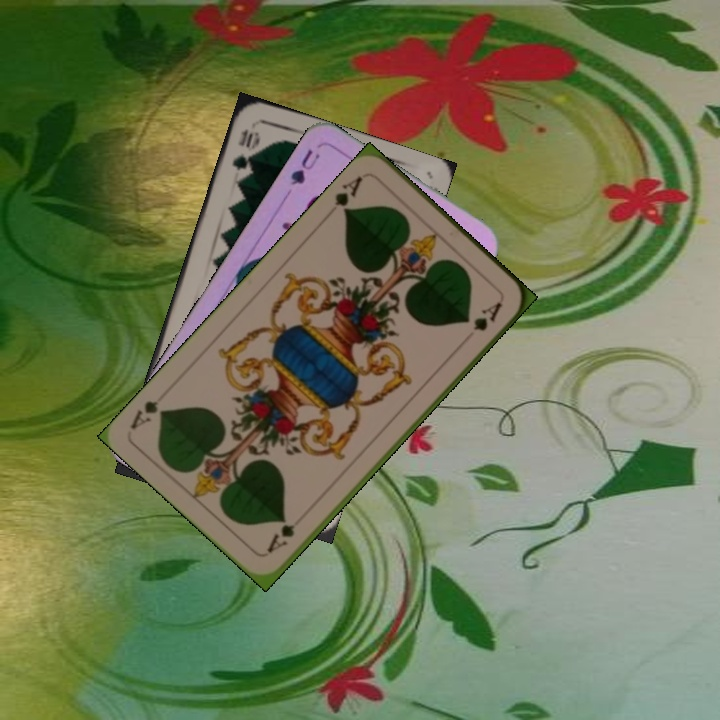G10: (228, 125, 262, 174)
GA: (330, 172, 366, 218), (262, 520, 297, 556)
GU: (286, 145, 323, 188)
